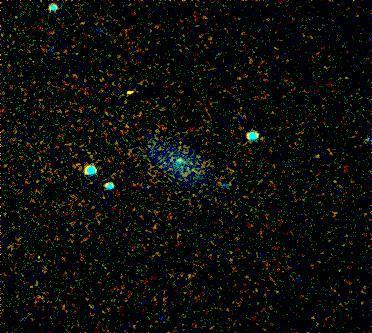star: (113, 75, 143, 105)
